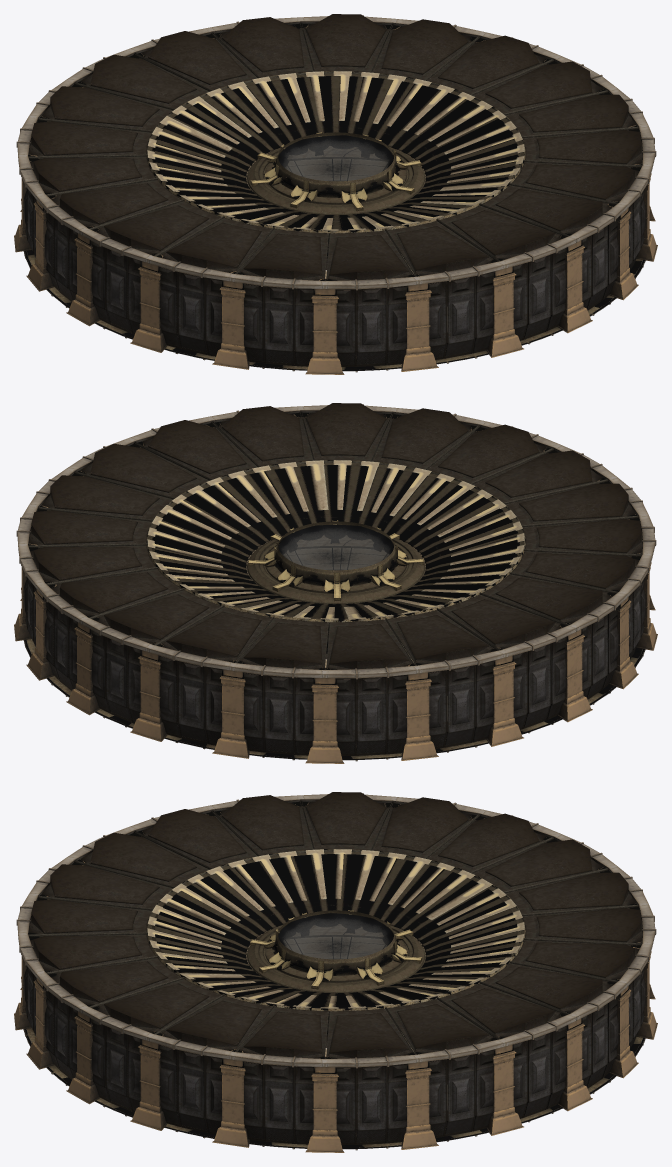
The model's file is shrine.glb.
3 renders of one model, top to bottom at view 1: azimuth 30°, elevation 25°; view 2: azimuth 150°, elevation 25°; view 3: azimuth 270°, elevation 25°, orthographic.
Parts seen in each view (by area): view 1: ceiling_01, wall, main_floor, column, ceiling_02, skylight, Cylinder.008, floor_03; view 2: ceiling_01, wall, main_floor, column, ceiling_02, skylight, Cylinder.008, floor_03; view 3: ceiling_01, wall, main_floor, column, ceiling_02, skylight, Cylinder.008, floor_03.
Part boxes in pixels (<box>): ceiling_01: <box>28,14,642,280</box>; wall: <box>16,15,656,372</box>; main_floor: <box>24,71,645,370</box>; column: <box>14,24,657,374</box>; ceiling_02: <box>147,71,524,232</box>; skylight: <box>278,135,393,181</box>; Cylinder.008: <box>250,132,421,211</box>; floor_03: <box>286,159,387,180</box>; ceiling_01: <box>28,403,642,669</box>; wall: <box>16,404,656,761</box>; main_floor: <box>25,460,643,760</box>; column: <box>14,413,657,763</box>; ceiling_02: <box>147,460,525,621</box>; skylight: <box>278,525,393,570</box>; Cylinder.008: <box>248,520,423,601</box>; floor_03: <box>284,548,388,569</box>; ceiling_01: <box>28,792,642,1058</box>; wall: <box>16,793,656,1150</box>; main_floor: <box>23,849,644,1148</box>; column: <box>14,802,657,1152</box>; ceiling_02: <box>147,849,524,1010</box>; skylight: <box>278,913,393,959</box>; Cylinder.008: <box>250,910,422,989</box>; floor_03: <box>285,937,386,958</box>.
Size of the model in its own units: 12.89 by 2.16 by 12.89.
Materials: 12 (12 with a texture image).
